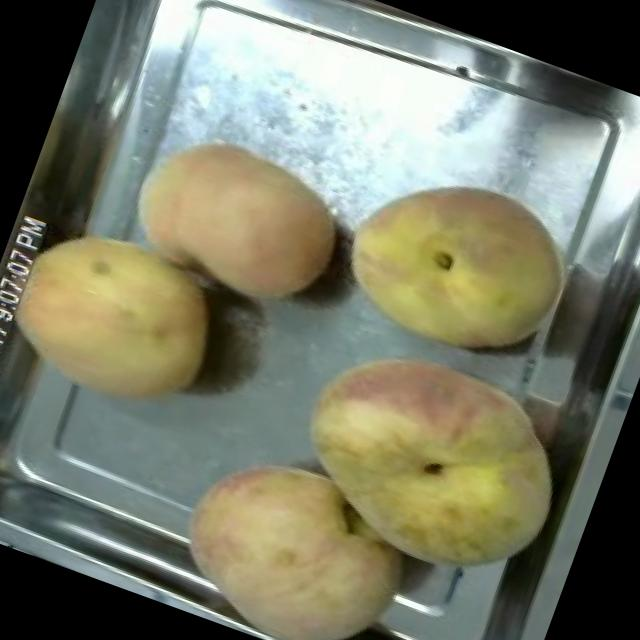Fruit: (256, 306, 602, 622), (320, 140, 592, 390), (147, 417, 441, 640), (0, 190, 251, 436), (107, 107, 370, 335)
